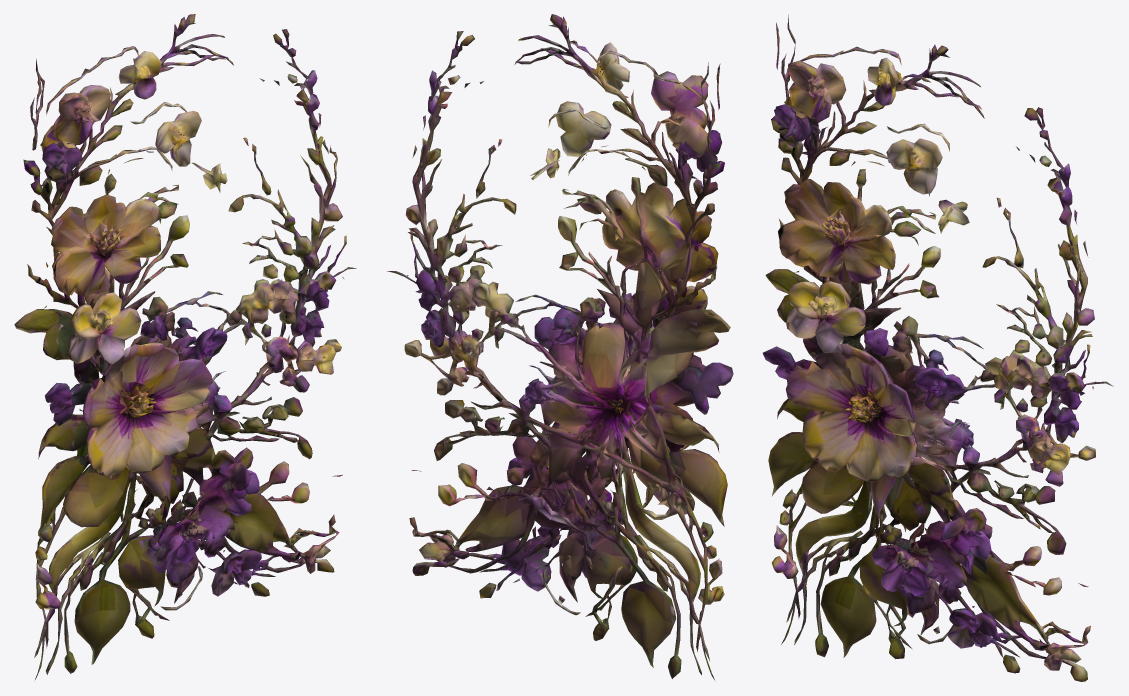
The model's file is 1000054986_jpg.glb.
3 views of the same model, side by side, from view 1: azimuth 30°, elevation 25°; view 2: azimuth 150°, elevation 25°; view 3: azimuth 330°, elevation 25° (orthographic).
Visible parts, largest first — view 1: 1000054986_jpg; view 2: 1000054986_jpg; view 3: 1000054986_jpg.
Part boxes in pixels (box(x1,y1,x2,y2)): 1000054986_jpg: box(14, 14, 356, 679); 1000054986_jpg: box(387, 14, 733, 679); 1000054986_jpg: box(762, 14, 1113, 681).
Size of the model in its own units: 1.09 by 1.92 by 0.2249.
Materials: 1 (1 with a texture image).
